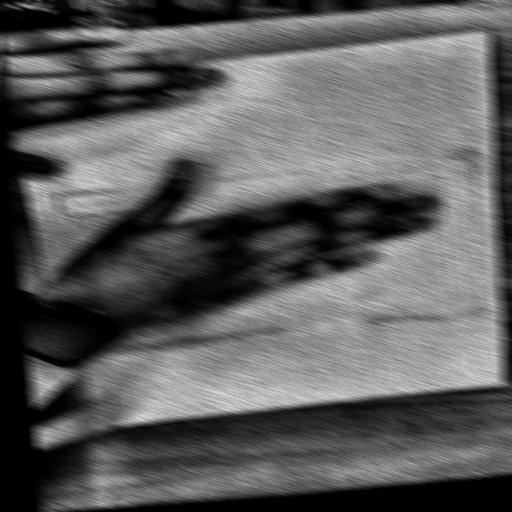bottom_left: (5, 82, 22, 91)
bottom_right: (75, 427, 91, 435)
door: (47, 147, 500, 362)
top_left: (476, 26, 497, 36)
top_right: (493, 380, 512, 390)
